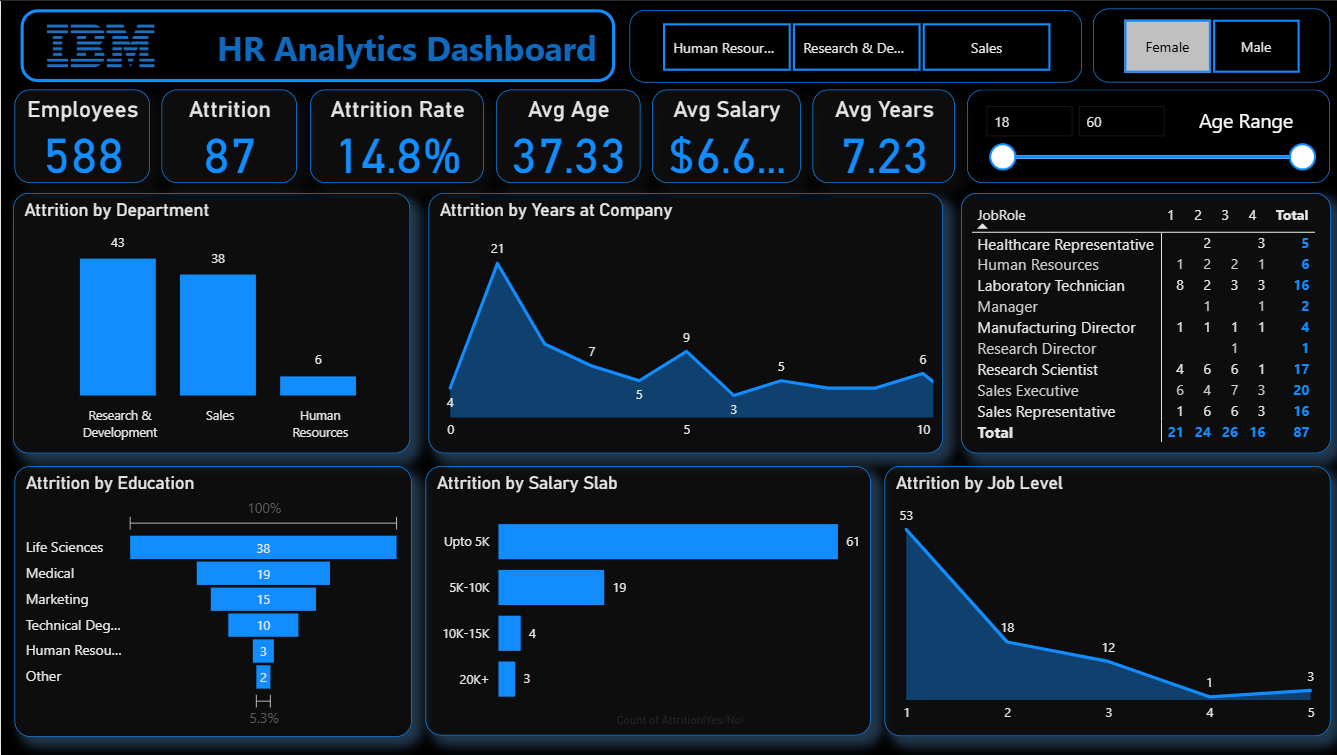

This screenshot's page, from the dashboard's own definition file:
{"tool":"powerbi","page":{"name":"Dashboard","canvas":[1280,720],"ordinal":0},"visuals":[{"type":"textbox","box":[1128.1,96.6,120.3,41.4],"z":0},{"type":"basicShape","box":[12.8,7.1,579.4,71],"z":1000},{"type":"image","box":[27,17,136.3,51.1],"z":2000},{"type":"card","title":"Attrition","fields":{"Values":["CountNonNull(IBM-HR-Employee-Attrition-And-Performance.Attrition)"]},"box":[153.7,85.2,129.2,89.5],"z":3000},{"type":"textbox","box":[161.9,17,411.8,61.1],"z":4000},{"type":"card","title":"Avg Age","fields":{"Values":["Avg(IBM-HR-Employee-Attrition-And-Performance.Age)"]},"box":[472.3,85.2,137.8,89.5],"z":5000},{"type":"lineStackedColumnComboChart","title":"Attrition by Department","fields":{"Category":["IBM-HR-Employee-Attrition-And-Performance.Department"],"Y":["CountNonNull(IBM-HR-Employee-Attrition-And-Performance.Attrition(Yes/No))"]},"box":[12.1,183.5,379.1,248.7],"z":6000},{"type":"barChart","title":"Attrition by Salary Slab","fields":{"Category":["IBM-HR-Employee-Attrition-And-Performance.AnnualSalary1"],"Y":["CountNonNull(IBM-HR-Employee-Attrition-And-Performance.Attrition(Yes/No))"]},"box":[404.8,444.1,425.6,257.5],"z":7000},{"type":"areaChart","title":"Attrition by Years at Company","fields":{"Category":["IBM-HR-Employee-Attrition-And-Performance.YearsAtCompany"],"Y":["CountNonNull(IBM-HR-Employee-Attrition-And-Performance.Attrition(Yes/No))"]},"box":[408,183.5,491.4,248.7],"z":8000},{"type":"funnel","title":"Attrition by Education","fields":{"Category":["IBM-HR-Employee-Attrition-And-Performance.EducationField"],"Y":["CountNonNull(IBM-HR-Employee-Attrition-And-Performance.Attrition)"]},"box":[12.8,444.5,379.2,258.5],"z":9000},{"type":"card","title":"Employees","fields":{"Values":["Count(IBM-HR-Employee-Attrition-And-Performance.EmployeeNumber)"]},"box":[12.8,85.2,129.2,89.5],"z":10000},{"type":"card","title":"Attrition Rate","fields":{"Values":["IBM-HR-Employee-Attrition-And-Performance.Attrition Rate"]},"box":[294.5,85.2,166.2,89.5],"z":11000},{"type":"card","title":"Avg Salary","fields":{"Values":["Avg(IBM-HR-Employee-Attrition-And-Performance.MonthlyIncome)"]},"box":[621.7,85.2,142,89.5],"z":12000},{"type":"card","title":"Avg Years","fields":{"Values":["Avg(IBM-HR-Employee-Attrition-And-Performance.YearsAtCompany)"]},"box":[775.4,85.2,136.3,89.5],"z":13000},{"type":"pivotTable","title":"Attrition by Salary","fields":{"Rows":["IBM-HR-Employee-Attrition-And-Performance.JobRole"],"Columns":["IBM-HR-Employee-Attrition-And-Performance.JobSatisfaction"],"Values":["CountNonNull(IBM-HR-Employee-Attrition-And-Performance.Attrition)"]},"box":[916,183.5,353.4,248.7],"z":14000},{"type":"areaChart","title":"Attrition by Job Level","fields":{"Category":["IBM-HR-Employee-Attrition-And-Performance.JobLevel"],"Y":["Sum(IBM-HR-Employee-Attrition-And-Performance.Attrition)"]},"box":[843.2,444.4,426.2,257.8],"z":15000},{"type":"slicer","fields":{"Values":["IBM-HR-Employee-Attrition-And-Performance.Department"]},"box":[599.9,9.3,431.8,69.4],"z":16000},{"type":"slicer","title":"Gender","fields":{"Values":["IBM-HR-Employee-Attrition-And-Performance.Gender"]},"box":[1042.5,7.7,226.7,70.9],"z":18000},{"type":"slicer","title":"Age","fields":{"Values":["IBM-HR-Employee-Attrition-And-Performance.Age"]},"box":[922.2,84.8,347,89.4],"z":19000}]}

Visuals, with their boxes in screenshot pixels (x1, y1, x2, y2), scaled from the page's 1280x720 canvas onto the 1337x755 screenshot:
textbox: 1178:101:1304:145
basicShape: 13:7:619:82
image: 28:18:171:71
"Attrition" card: 161:89:295:183
textbox: 169:18:599:82
"Avg Age" card: 493:89:637:183
"Attrition by Department" lineStackedColumnComboChart: 13:192:409:453
"Attrition by Salary Slab" barChart: 423:466:867:736
"Attrition by Years at Company" areaChart: 426:192:939:453
"Attrition by Education" funnel: 13:466:409:737
"Employees" card: 13:89:148:183
"Attrition Rate" card: 308:89:481:183
"Avg Salary" card: 649:89:798:183
"Avg Years" card: 810:89:952:183
"Attrition by Salary" pivotTable: 957:192:1326:453
"Attrition by Job Level" areaChart: 881:466:1326:736
slicer - IBM-HR-Employee-Attrition-And-Performance.Department: 627:10:1078:83
"Gender" slicer: 1089:8:1326:82
"Age" slicer: 963:89:1326:183
